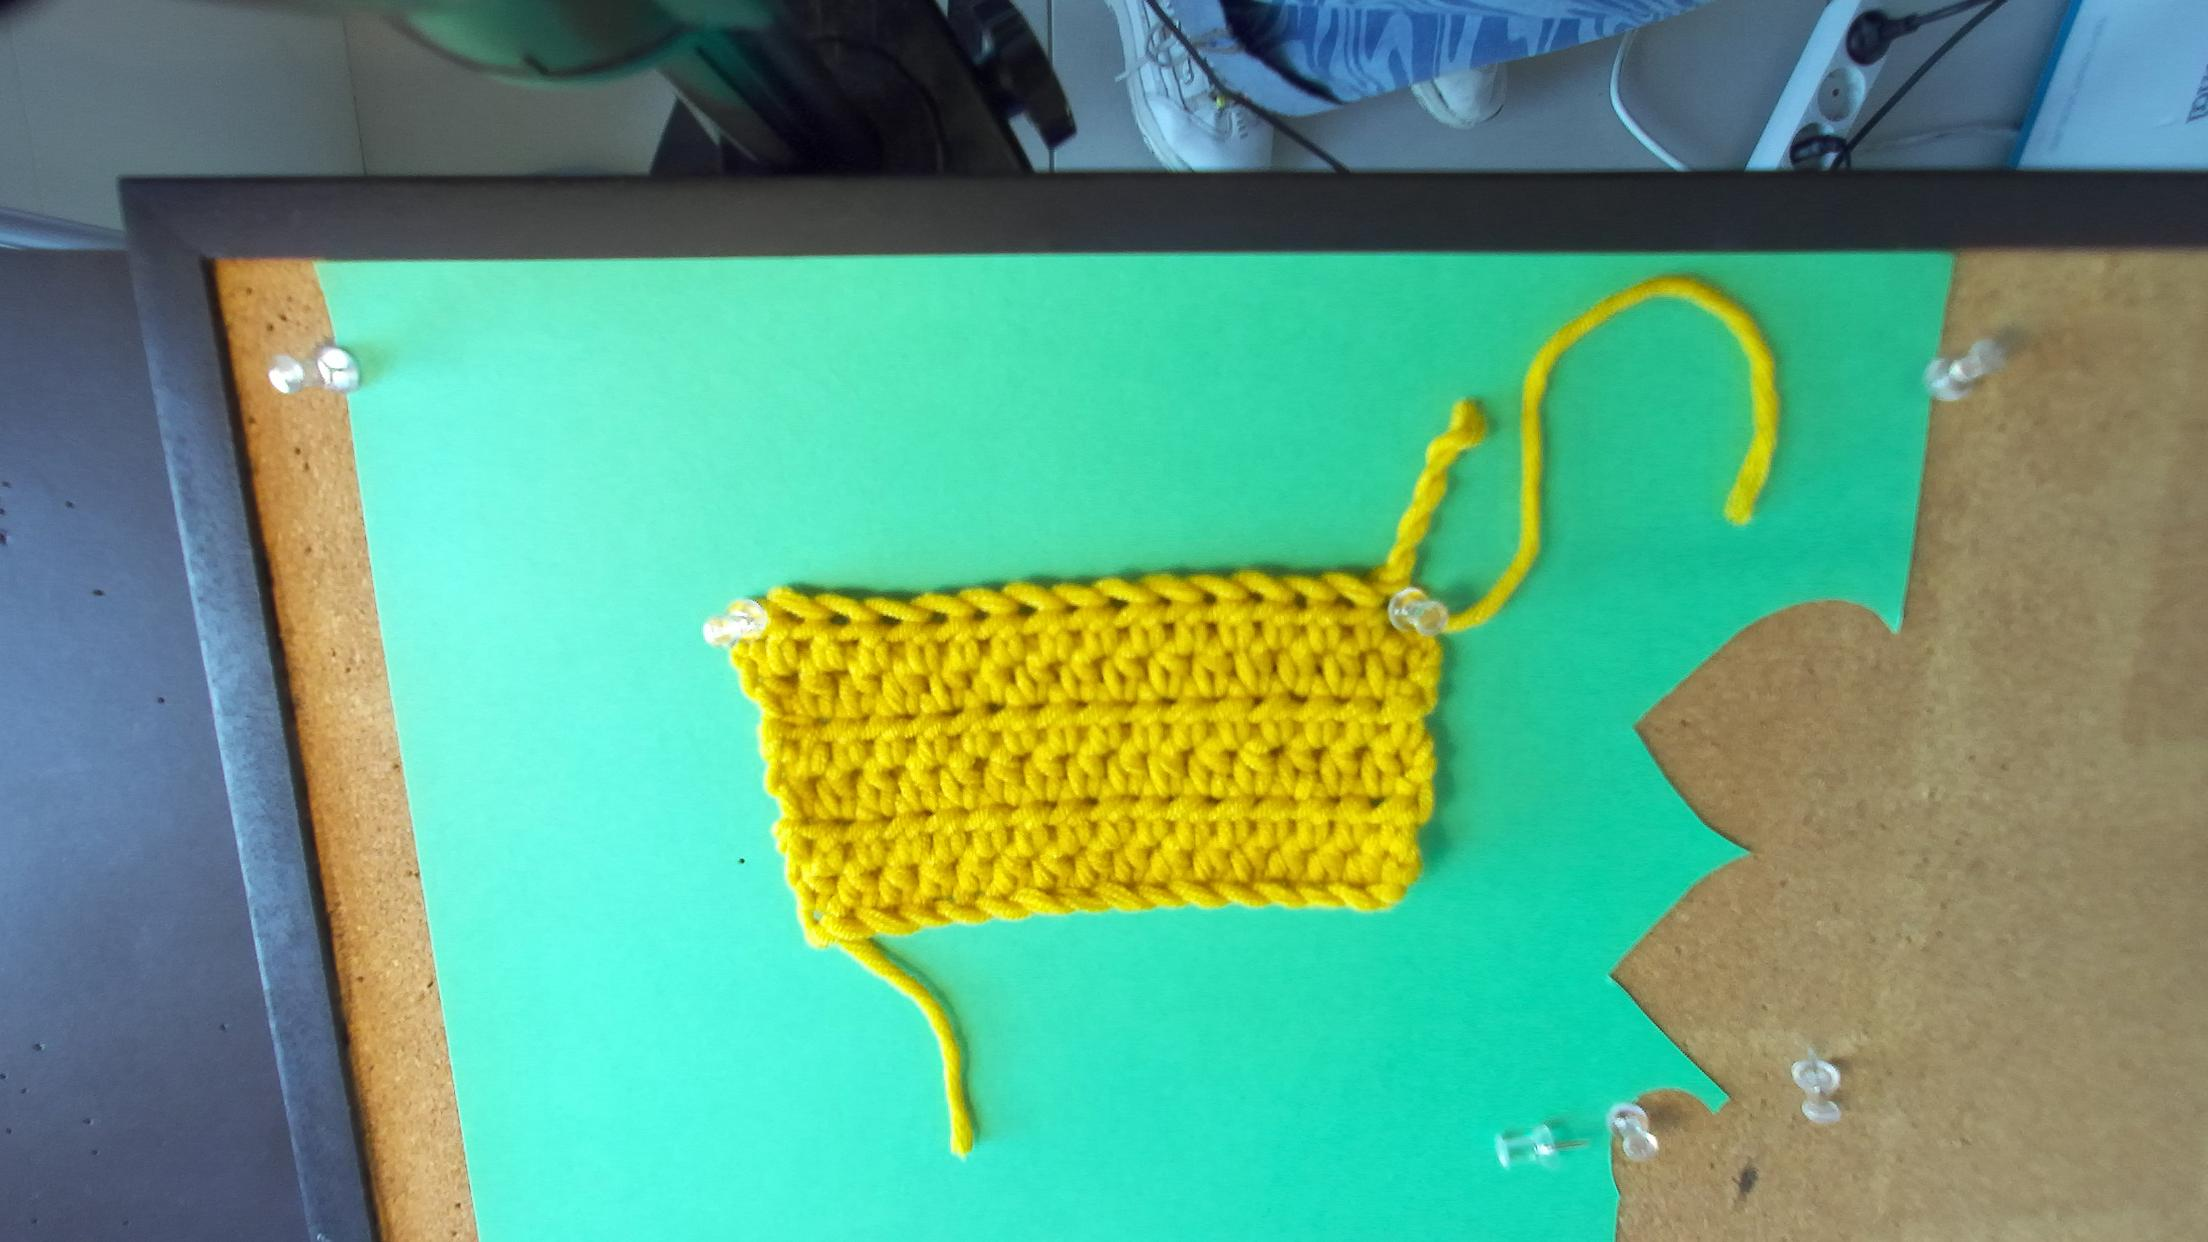hole: (778, 607, 804, 626), (1104, 597, 1131, 614), (875, 613, 904, 628), (1013, 602, 1042, 617), (826, 610, 852, 626), (1331, 591, 1354, 608), (925, 611, 949, 626), (1055, 602, 1083, 614), (1292, 590, 1309, 610), (1201, 590, 1216, 610), (972, 608, 990, 623), (1156, 594, 1174, 610), (1248, 591, 1265, 607)
swatch: (704, 569, 1450, 955)
